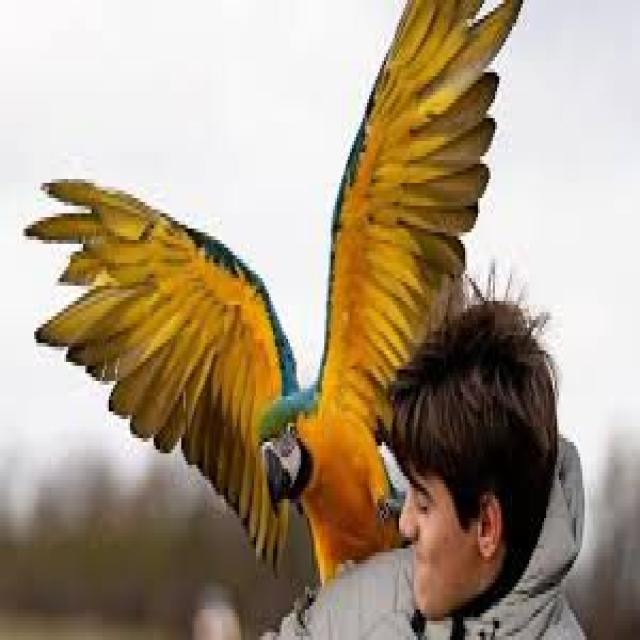Parrot: (26, 4, 523, 537)
